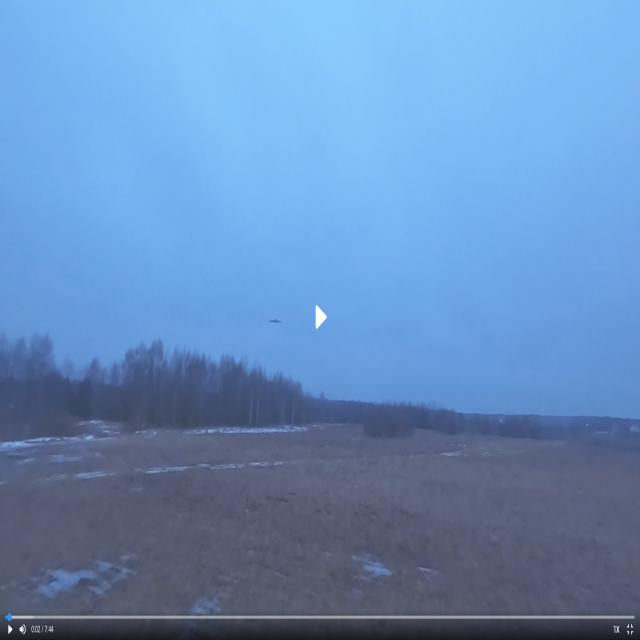planedrone: (267, 317, 281, 326)
